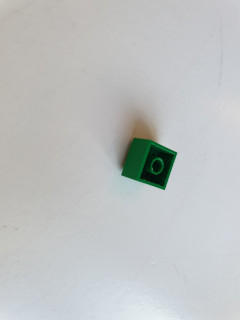2x2 green: (121, 137, 179, 191)
